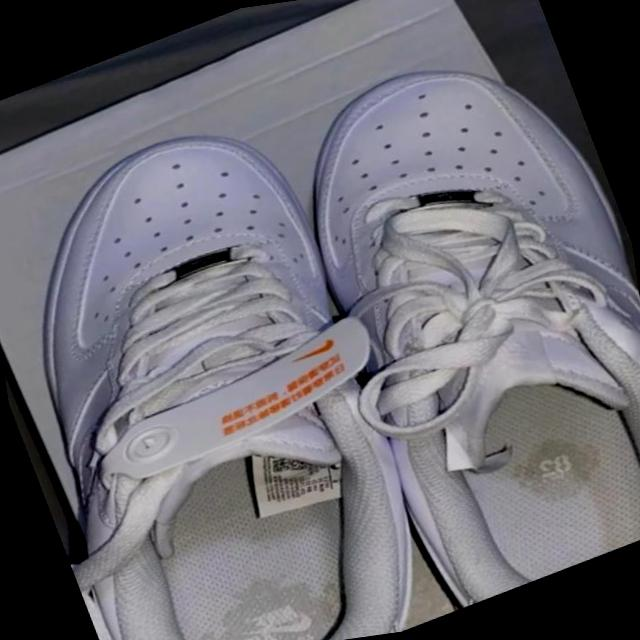nike_fake_airforce: (227, 0, 640, 630), (0, 83, 463, 640)
